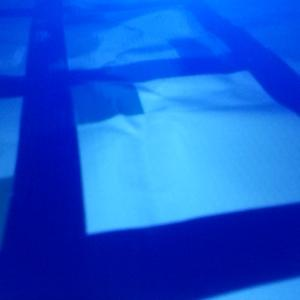bottom_left: (170, 33, 248, 71)
bottom_right: (26, 71, 144, 124), (33, 6, 107, 25)
top_left: (1, 177, 81, 300)
